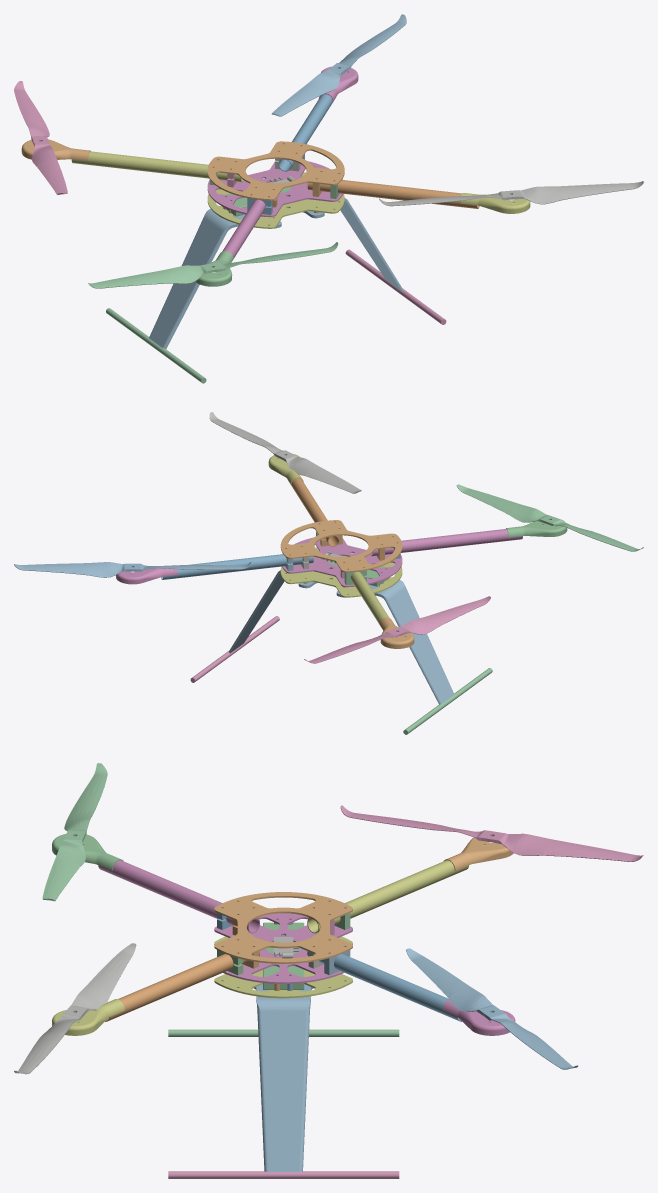
Rendered from case-05_astra6.glb.
3 renders of one model, top to bottom at view 1: azimuth 30°, elevation 25°; view 2: azimuth 150°, elevation 25°; view 3: azimuth 270°, elevation 25°, orthographic. The views are drawn at different scales.
Parts seen in each view (by area): view 1: c00006, c00003, c00025, c00028, c00002, c00026, c00027, c00011, c00009, c00001, c00010, c00012 (+5 smaller); view 2: c00006, c00003, c00026, c00027, c00028, c00002, c00025, c00012, c00010, c00001, c00009, c00024 (+5 smaller); view 3: c00006, c00003, c00027, c00026, c00025, c00028, c00002, c00012, c00011, c00010, c00009, c00007 (+7 smaller).
Boxes of the visible parts, x1,y1,x2,y2 form: c00006: (149,198,403,348); c00003: (207,141,344,200); c00025: (379,181,643,206); c00028: (88,242,338,288); c00002: (207,161,342,217); c00026: (271,14,406,116); c00027: (14,81,67,194); c00011: (71,151,243,182); c00009: (307,180,479,208); c00001: (207,172,344,228); c00010: (278,94,335,171); c00012: (222,199,266,262); c00006: (229,570,454,704); c00003: (280,520,402,572); c00026: (14,562,251,577); c00027: (304,596,490,663); c00028: (456,484,643,551); c00002: (282,537,402,587); c00025: (209,412,361,493); c00012: (370,529,522,556); c00010: (161,554,313,579); c00001: (280,547,402,597); c00009: (288,478,339,546); c00024: (506,519,567,537); c00006: (253,984,313,1171); c00003: (214,892,352,963); c00027: (340,805,643,861); c00026: (406,948,578,1069); c00025: (14,943,136,1074); c00028: (42,763,107,901); c00002: (214,913,352,983); c00012: (98,860,259,933); c00011: (307,860,469,933); c00010: (307,951,461,1021); c00009: (105,951,259,1021); c00007: (168,1171,399,1178).
Size of the model in its own units: 789 by 225 by 682.
